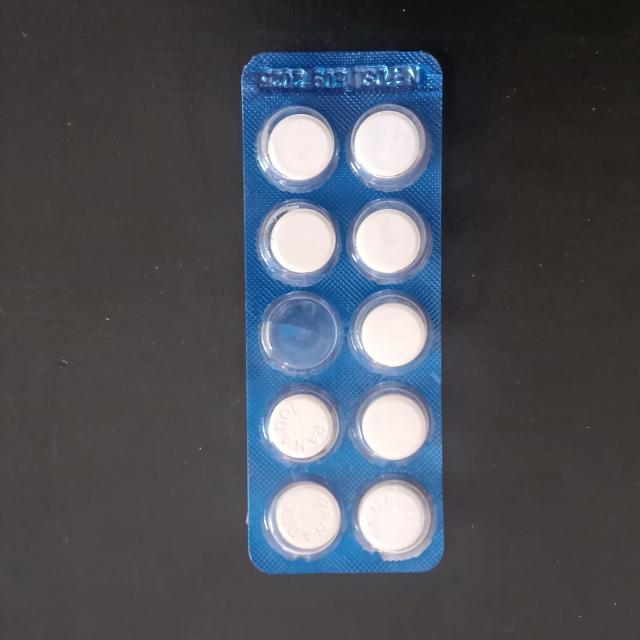defect: (251, 288, 347, 381)
